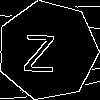Z: (23, 25, 55, 72)
